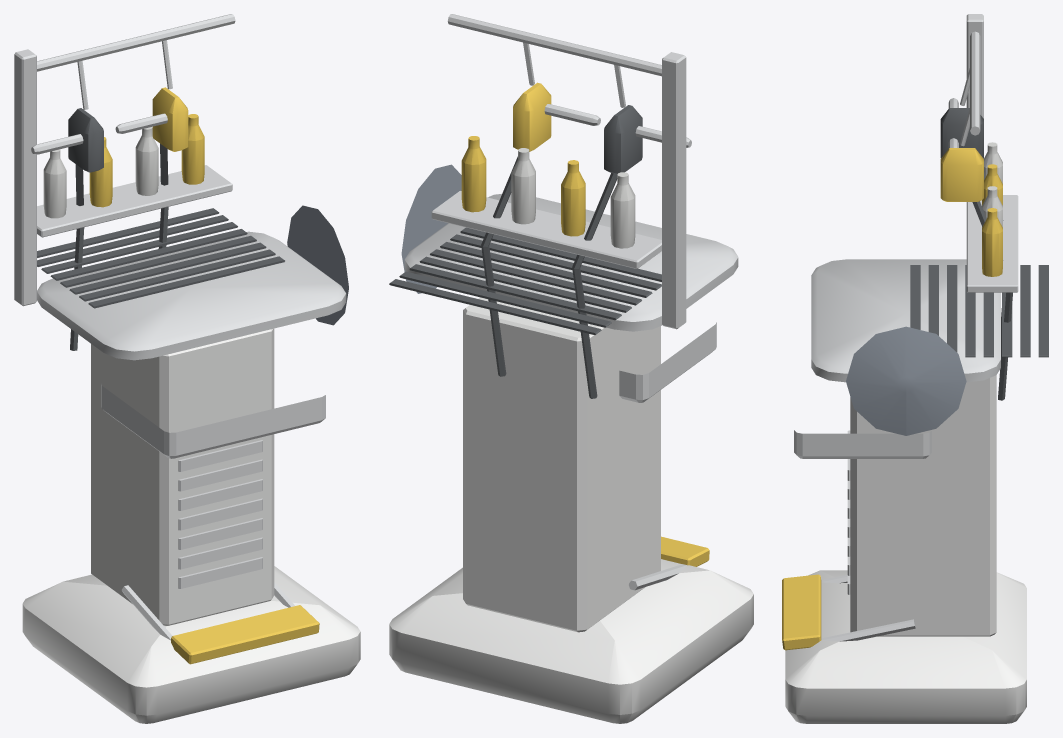
The model's file is laundrette-and-cleaning-spotting-board-19f30019__25558.glb.
3 views of the same model, side by side, from view 1: azimuth 30°, elevation 25°; view 2: azimuth 150°, elevation 25°; view 3: azimuth 270°, elevation 25° (orthographic). The views are drawn at different scales.
Parts seen in each view (by area): view 1: spotting-board; view 2: spotting-board; view 3: spotting-board.
Boxes of the visible parts, x1,y1,x2,y2 form: spotting-board: [14, 14, 360, 723]; spotting-board: [389, 14, 753, 723]; spotting-board: [782, 14, 1048, 723].
Size of the model in its own units: 0.71 by 1.52 by 0.6184.
